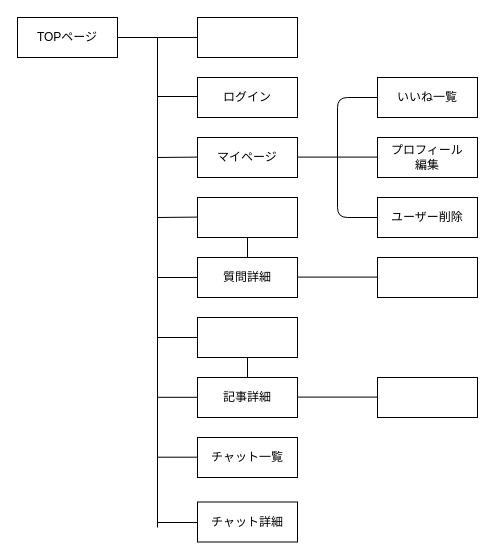
Image size: 495x560. Some labels were removed from this diagram. Each missing label, with the centre of its shape:
ユーザー登録: the point at 247,37
記事一覧: the point at 247,337
記事編集: the point at 427,397
質問一覧: the point at 247,217
質問編集: the point at 427,277
